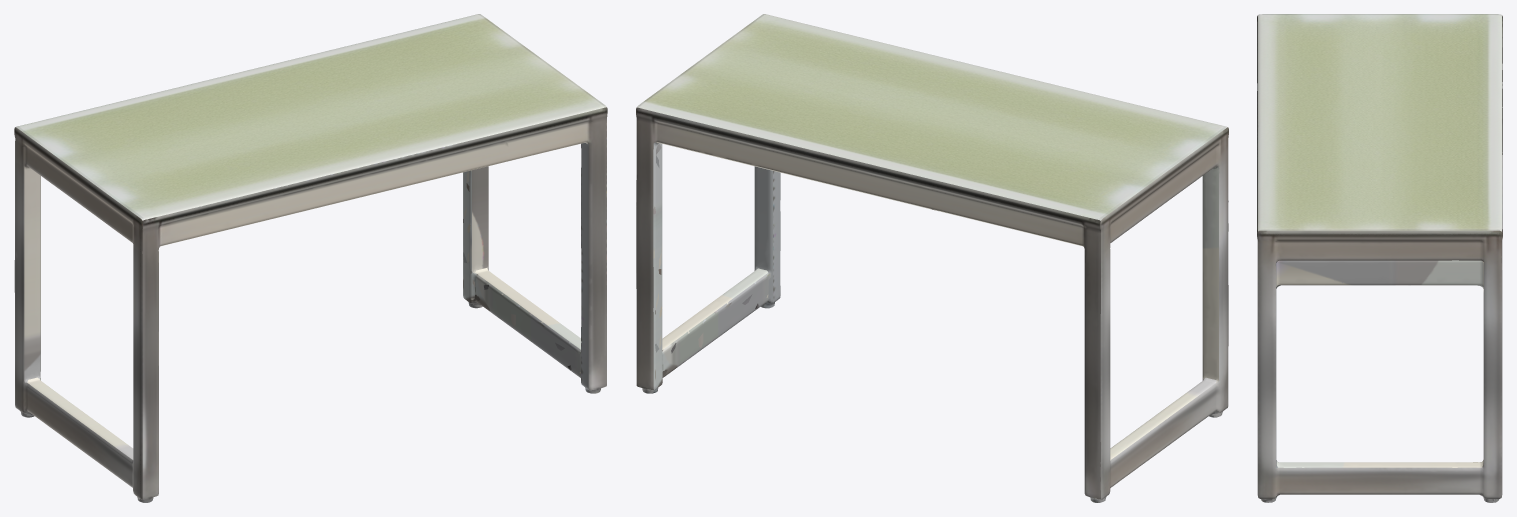
File: desk__desk#2.glb
3 renders of one model, left to right at view 1: azimuth 30°, elevation 25°; view 2: azimuth 150°, elevation 25°; view 3: azimuth 270°, elevation 25°, orthographic. The views are drawn at different scales.
Visible parts, largest first — view 1: tmpsa0v4yh5.ply; view 2: tmpsa0v4yh5.ply; view 3: tmpsa0v4yh5.ply.
Part boxes in pixels (left/top/right/bottom): tmpsa0v4yh5.ply: left=14, top=14, right=607, bottom=502; tmpsa0v4yh5.ply: left=636, top=14, right=1228, bottom=502; tmpsa0v4yh5.ply: left=1257, top=14, right=1502, bottom=502.
Size of the model in its own units: 1.99 by 1.17 by 0.9505.
1 material, 1 textured.
